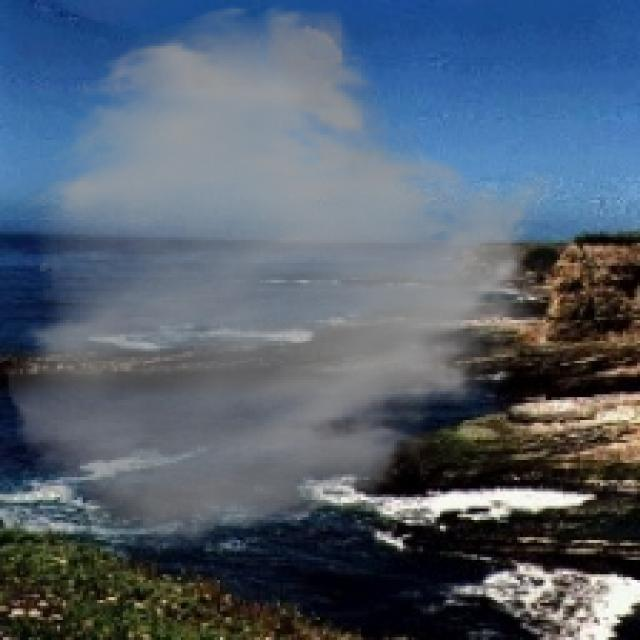smoke: (3, 0, 561, 555)
